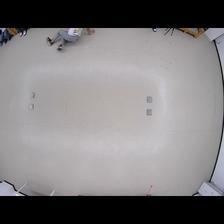fall: (46, 27, 96, 52)
